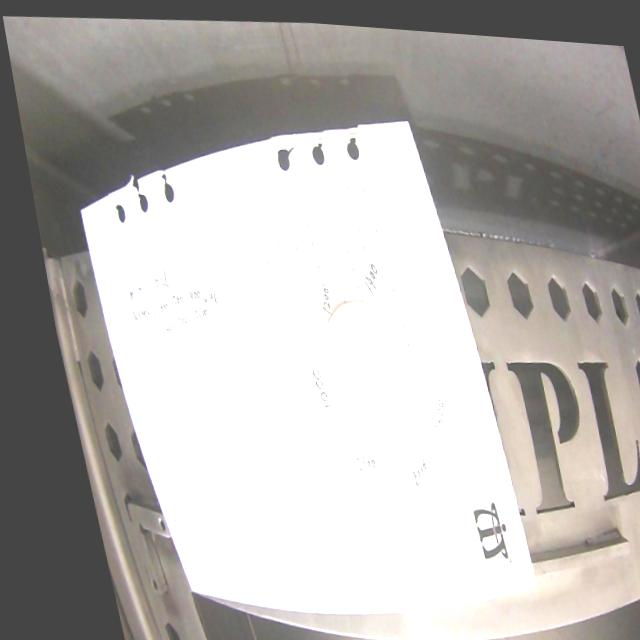BlueColor: (385, 357, 418, 413), (367, 434, 381, 455), (357, 379, 367, 398), (401, 441, 411, 453), (348, 331, 356, 346), (360, 307, 368, 320)
